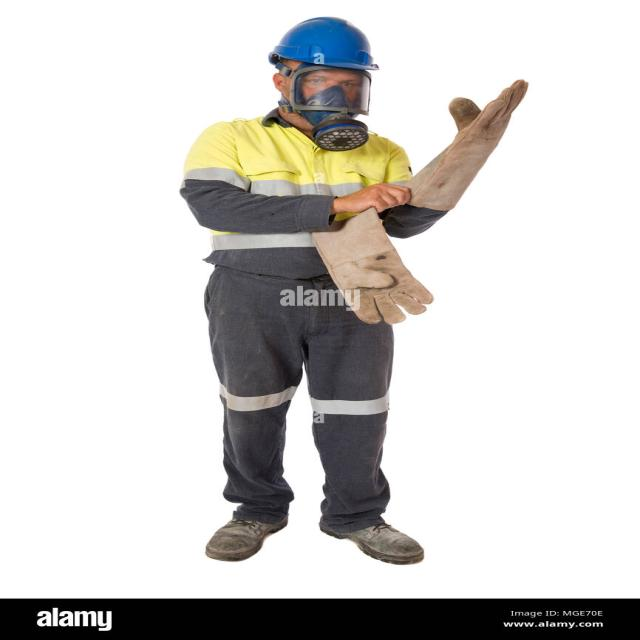gloves: (323, 256, 439, 327), (445, 76, 532, 150)
helmet: (264, 12, 382, 74)
vest: (202, 115, 407, 282)
